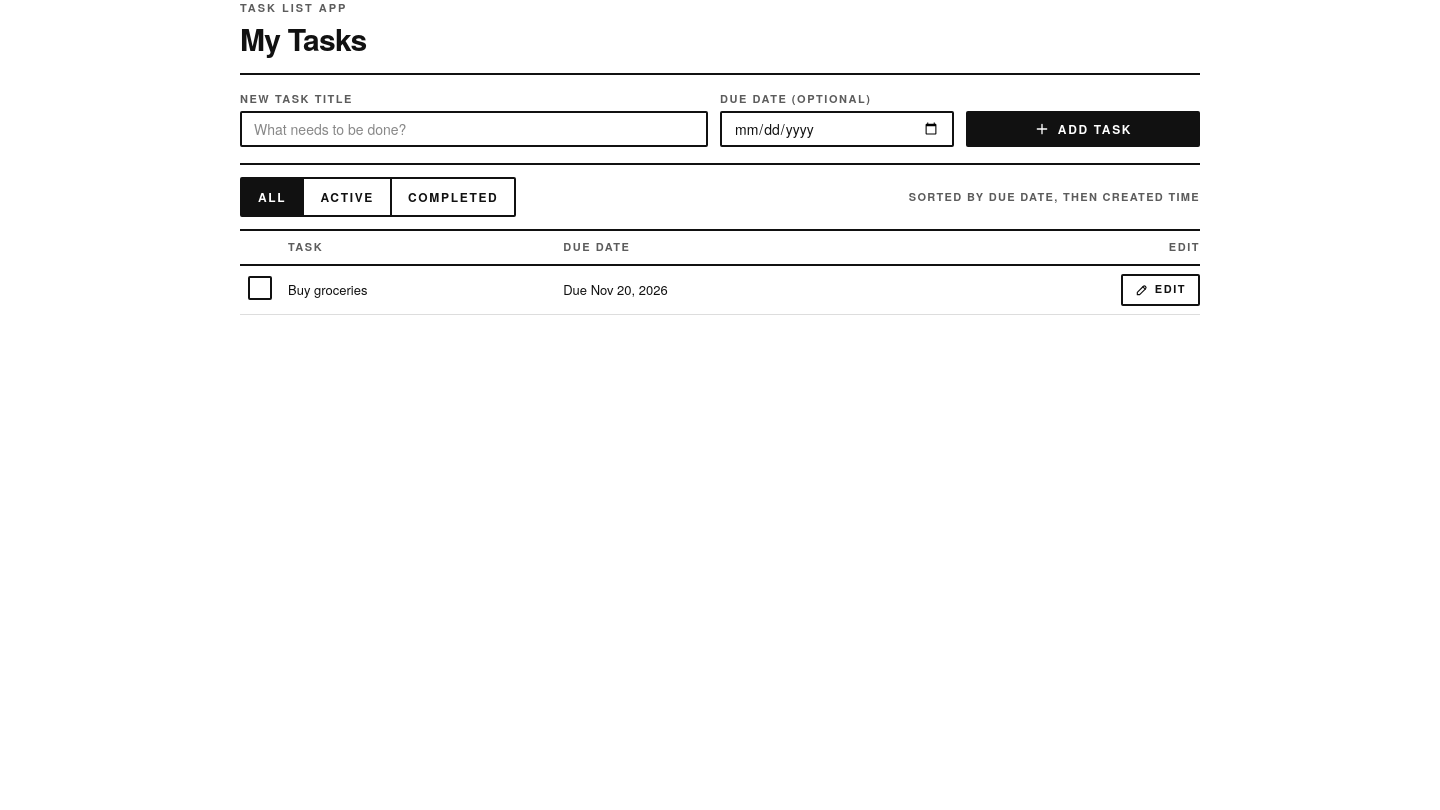
Tasks screen › [handleDelete] shows an error message when DELETE fails
Expected: the text "Buy groceries" is shown, [288,280,367,299]
Click the button named "Edit \"Buy groceries\"".
click(1160, 290)  # box [1121,274,1200,306]
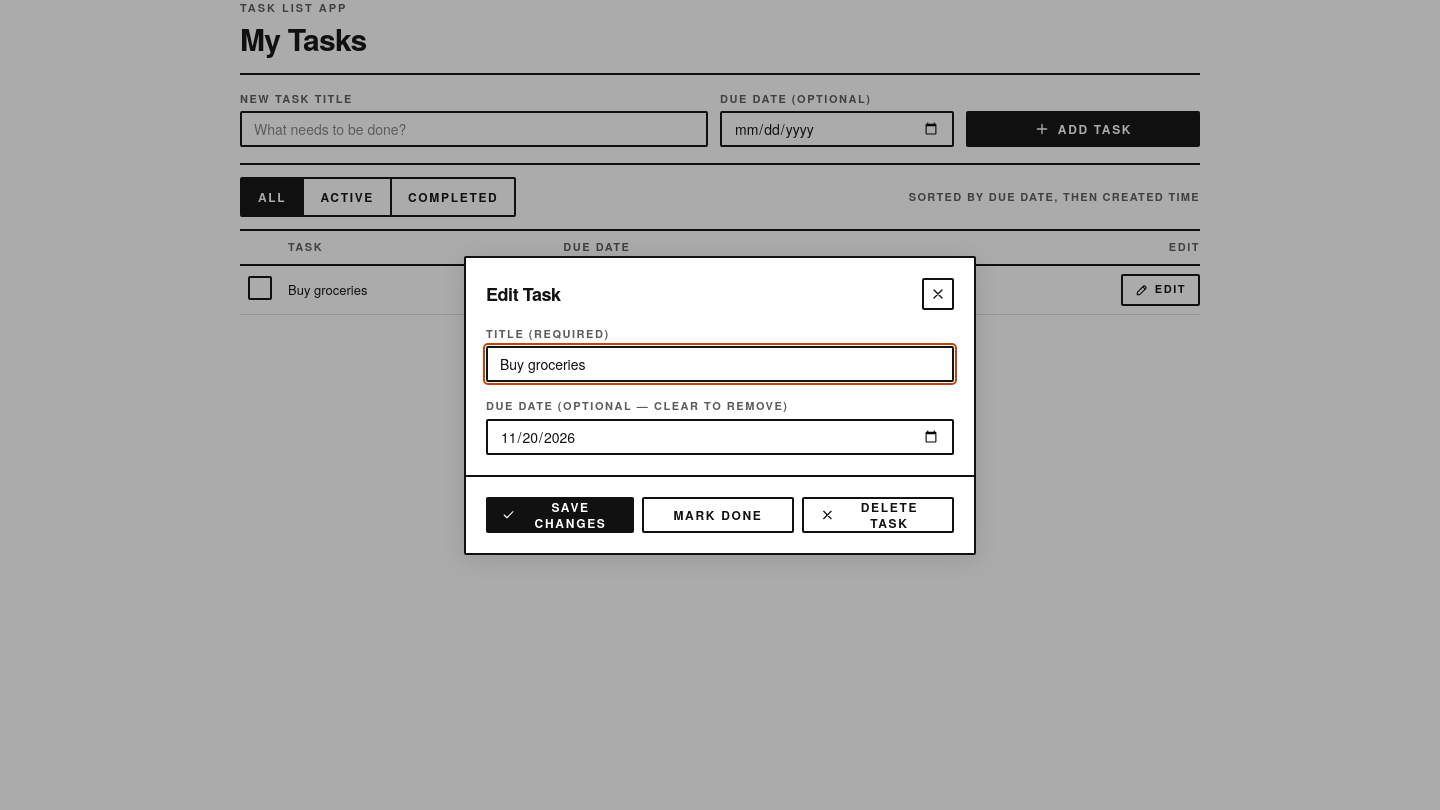
Click the button "Delete Task".
click(878, 514)  # box [802,496,954,532]
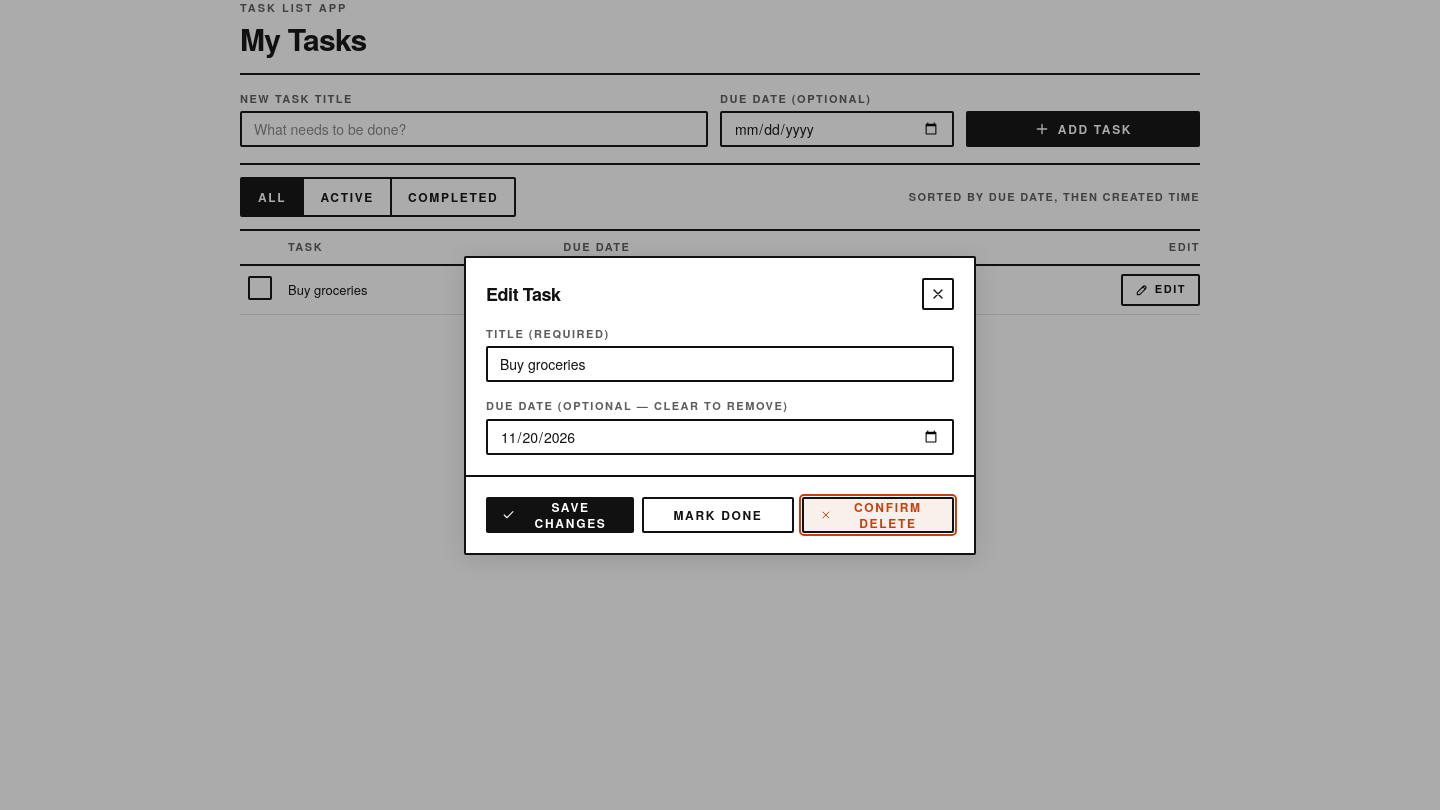
Click the button "Confirm Delete".
click(878, 514)  # box [802,496,954,532]
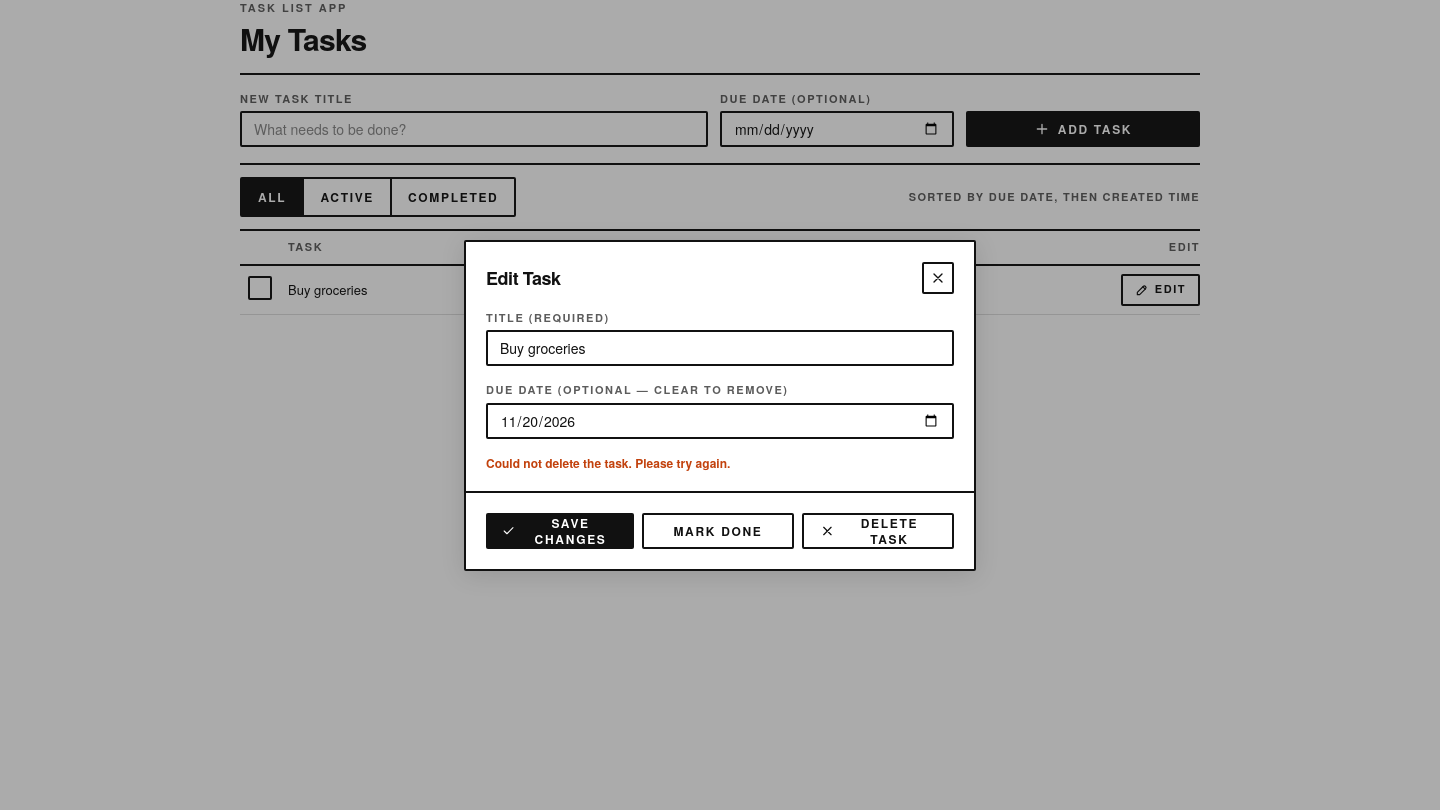
Expected: the text "Buy groceries" is shown, [288,280,367,299]
Now the text "Could not delete the task. Please try again." is shown, box [486,454,730,472]
